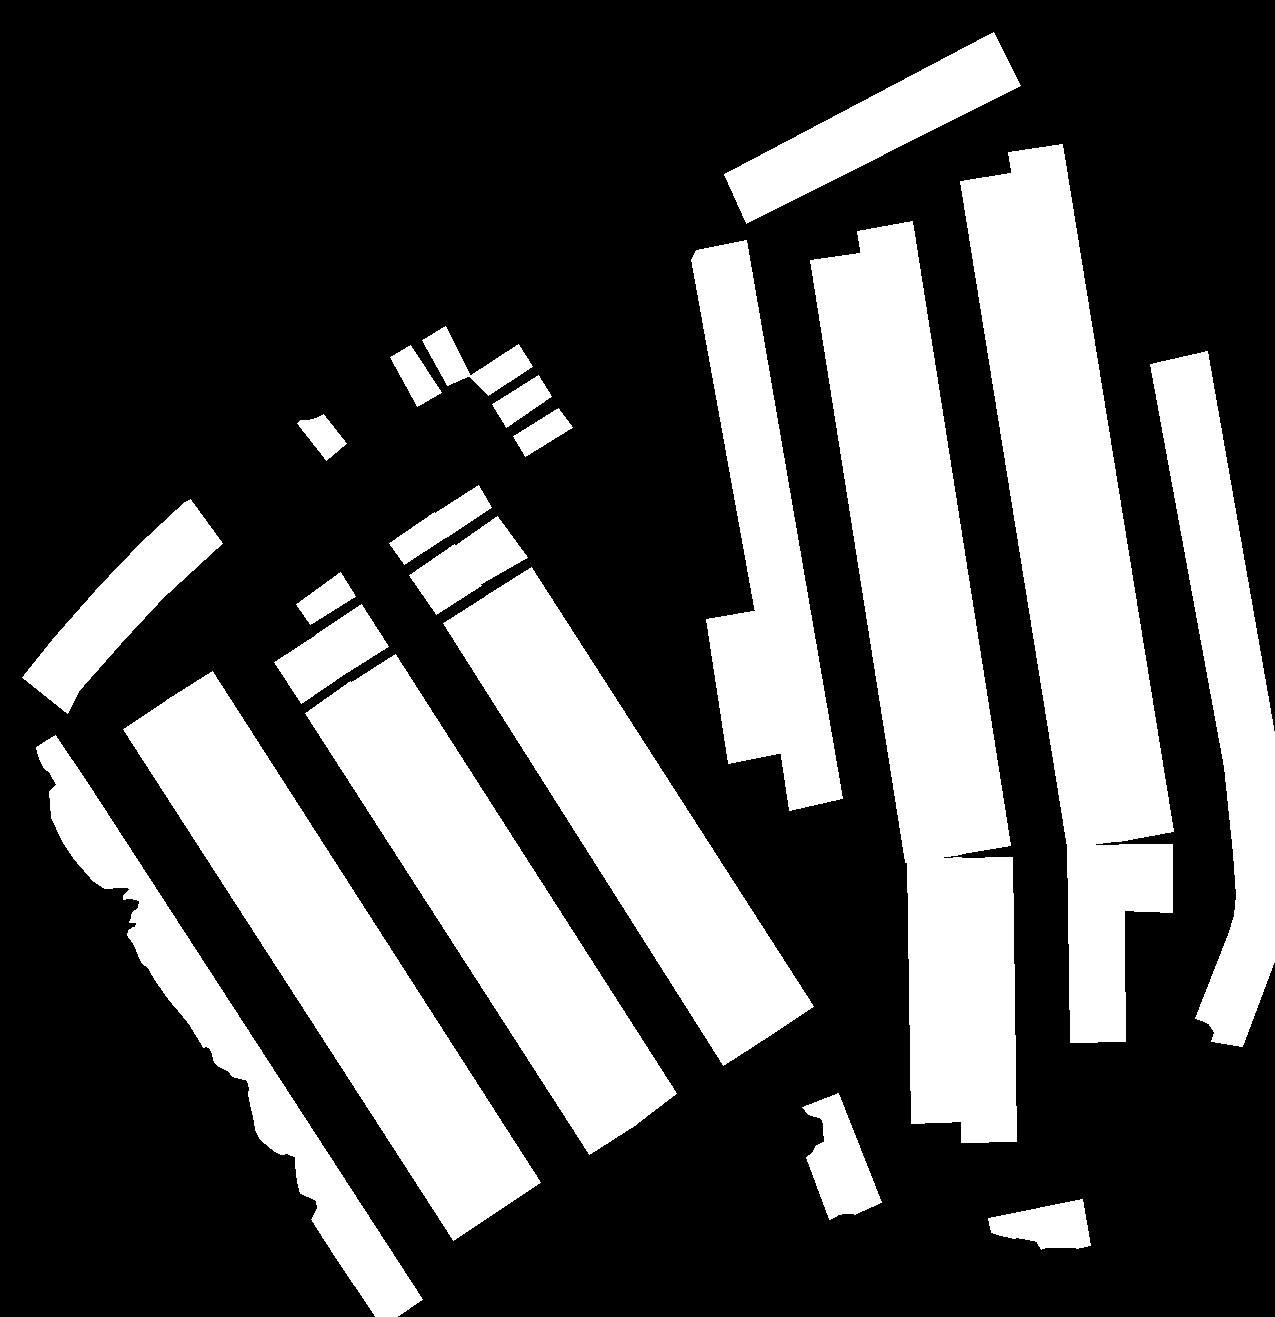parkingspot: (36, 735, 422, 1316), (124, 698, 498, 1241), (166, 671, 540, 1212), (305, 681, 636, 1154), (348, 654, 676, 1127), (443, 595, 772, 1065), (485, 567, 813, 1036), (1008, 143, 1173, 841), (960, 172, 1122, 847), (857, 221, 1010, 854), (810, 252, 961, 862), (1150, 350, 1275, 1047), (690, 240, 842, 810), (725, 32, 1020, 223), (22, 499, 222, 713), (957, 857, 1016, 1142), (907, 857, 964, 1123), (706, 610, 783, 763), (1067, 844, 1124, 1042), (802, 1094, 881, 1219), (316, 604, 388, 675), (274, 631, 345, 703), (988, 1199, 1090, 1249), (409, 544, 481, 614), (454, 516, 527, 584), (1119, 844, 1171, 912), (469, 345, 532, 395), (389, 512, 448, 564), (296, 571, 355, 624), (390, 345, 441, 406), (433, 484, 490, 537), (492, 375, 550, 427), (422, 326, 470, 385), (513, 408, 572, 456), (298, 414, 346, 460)
